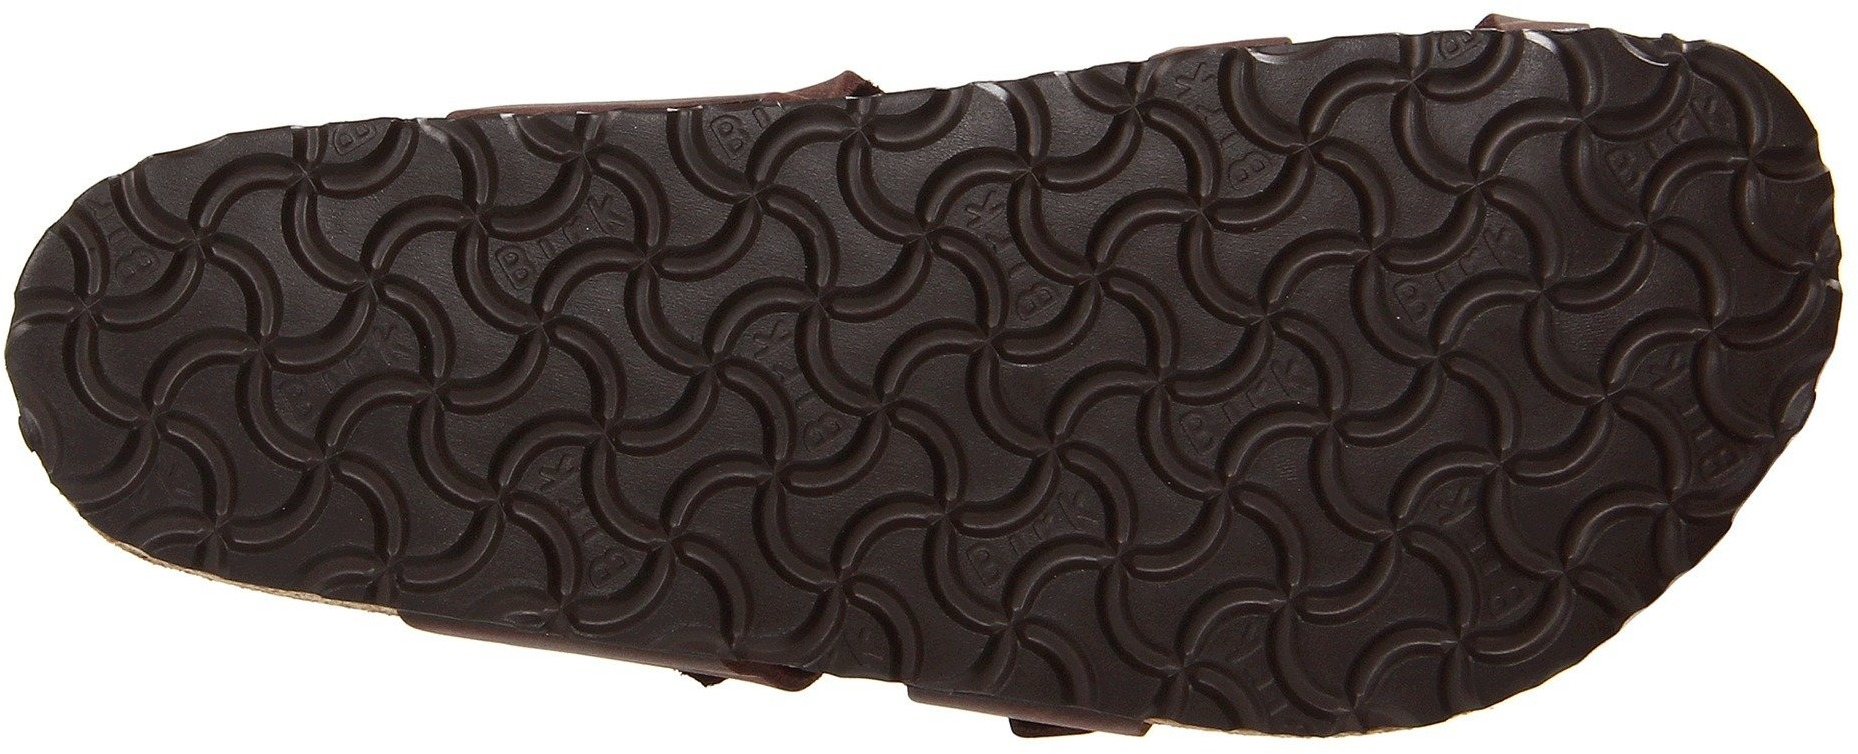bowtie: (1344, 43, 1776, 433), (941, 92, 1339, 468), (629, 124, 923, 437), (315, 136, 617, 436), (1069, 475, 1321, 718), (1348, 437, 1569, 667), (82, 221, 297, 452), (732, 448, 960, 657), (408, 447, 611, 630)
exclude: (671, 50, 895, 100), (1450, 0, 1633, 31)
star: (732, 448, 960, 657)
text: (1344, 43, 1776, 433), (941, 92, 1339, 468), (629, 124, 923, 437), (315, 136, 617, 436), (1069, 475, 1321, 718), (1348, 437, 1569, 667)
